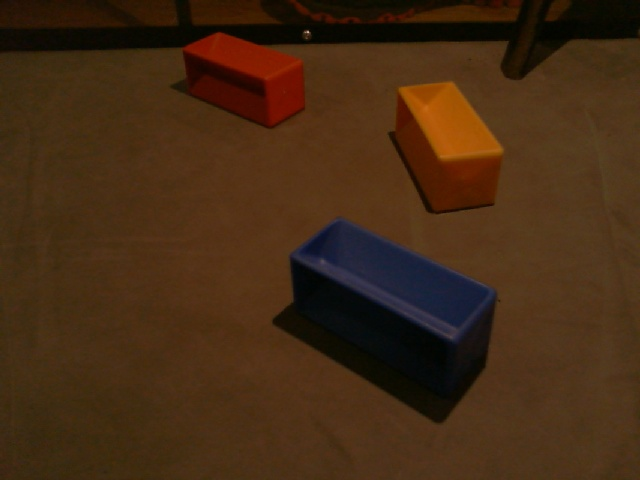BlueSample: (289, 215, 499, 399)
RedSample: (180, 26, 309, 129)
YellowSample: (395, 78, 501, 216)
